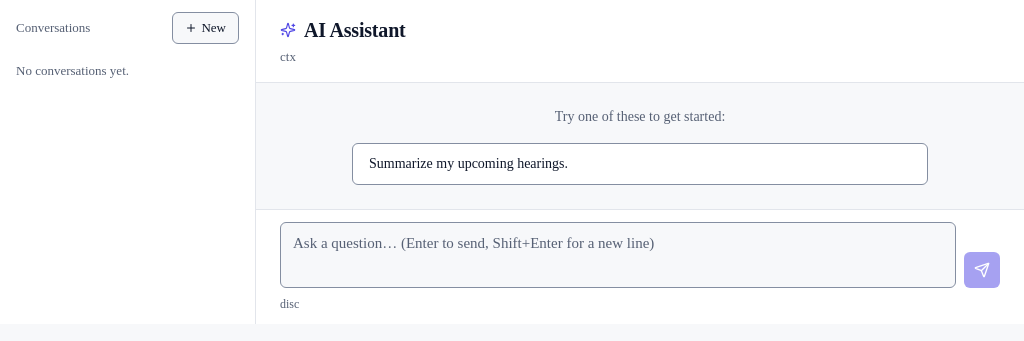
AssistantChat › disables Send until there is text and exposes the composer by label
Expected: the button named "Send message" is disabled, [964,252,1000,288]
Type "hello" into the text box named "Message the assistant".
click(618, 255); type("hello")  # box [280,222,956,288]
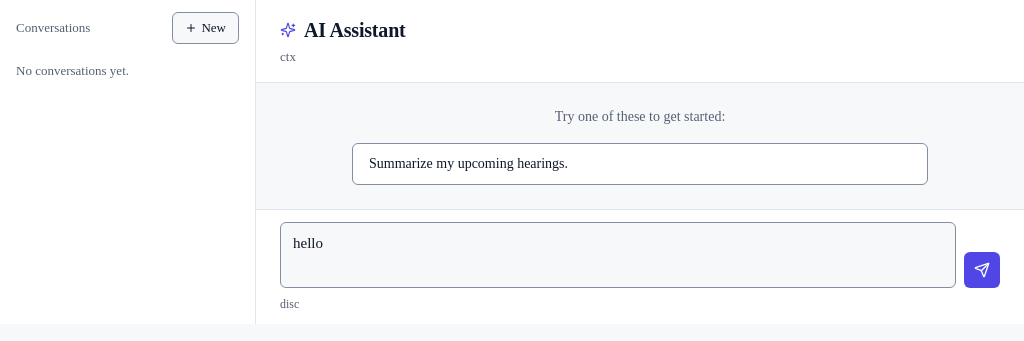
Expected: the button named "Send message" is enabled, [964,252,1000,288]
